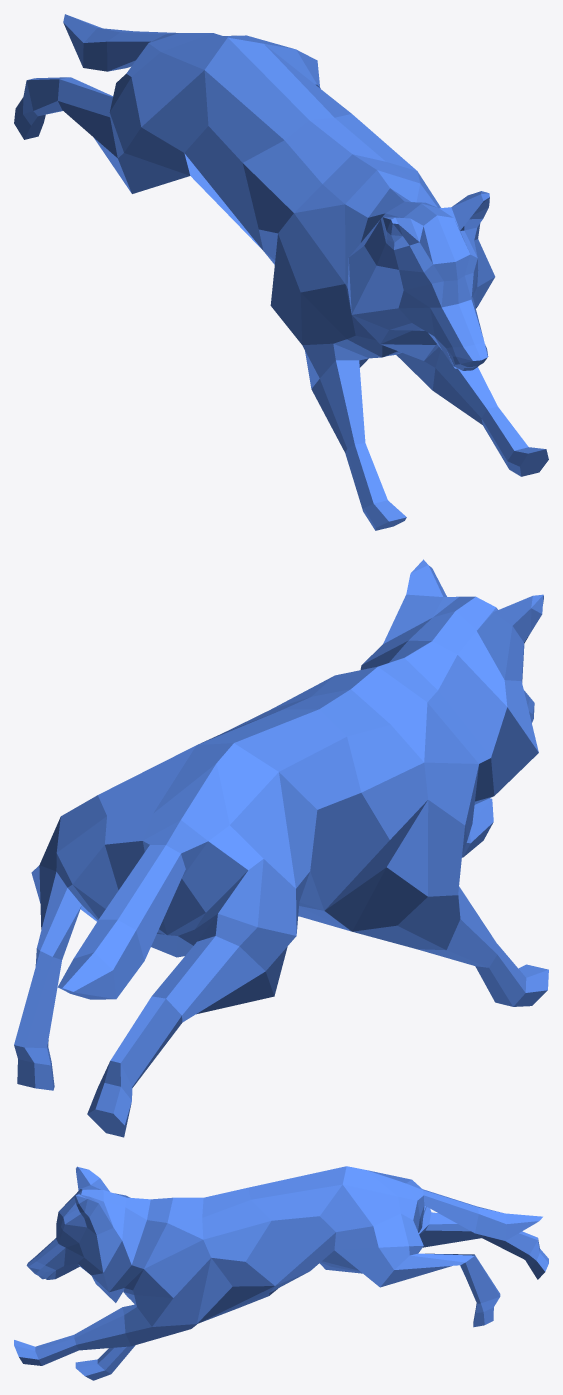
File: wolfRunA_v009007.obj
The picture shows the model from 3 angles, top to bottom: view 1: azimuth 30°, elevation 25°; view 2: azimuth 150°, elevation 25°; view 3: azimuth 270°, elevation 25°; orthographic projection. The views are drawn at different scales.
Visible parts, largest first — view 1: comp_wolf_rig:wolf_body comp_wolf_rig:wolf; view 2: comp_wolf_rig:wolf_body comp_wolf_rig:wolf; view 3: comp_wolf_rig:wolf_body comp_wolf_rig:wolf.
Part boxes in pixels (x1,y1,x2,y2): comp_wolf_rig:wolf_body comp_wolf_rig:wolf: (14,14,548,530); comp_wolf_rig:wolf_body comp_wolf_rig:wolf: (14,559,548,1137); comp_wolf_rig:wolf_body comp_wolf_rig:wolf: (14,1166,548,1380).
Bounding box in the file's own units: 44.56 × 67.93 × 147.
